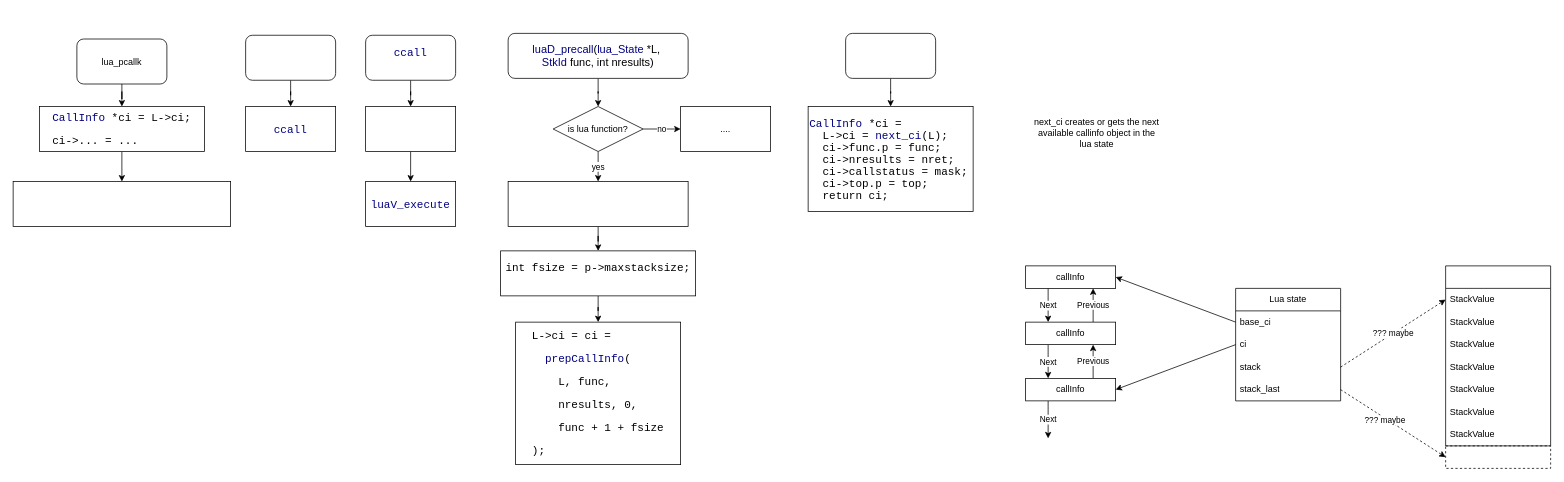
The diagram is 1564 pixels wide and 482 high, and some of its shapes have lost their labels. Here are the shapes that lost their labels. From the top down, the box of each, then its label:
(245, 34, 336, 80): luaD_call
(845, 33, 936, 78): prepCallInfo
(365, 106, 456, 152): luaD_precall
(12, 181, 231, 226): luaD_call (L, c.func, nresults);
(507, 181, 688, 226): Proto *p = clLvalue ( s2v (func))->p;
(1445, 265, 1551, 446): StackValues
(1445, 445, 1551, 468): End
